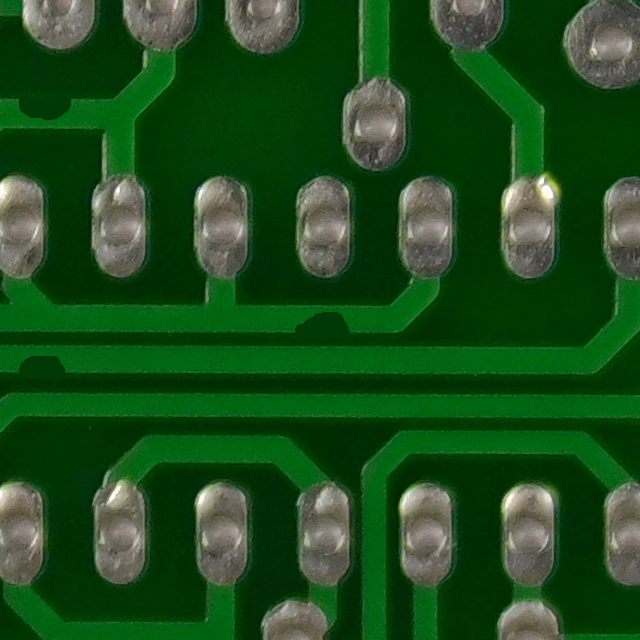mouse_bite: (271, 292, 369, 349), (0, 77, 87, 139), (0, 338, 82, 392)
